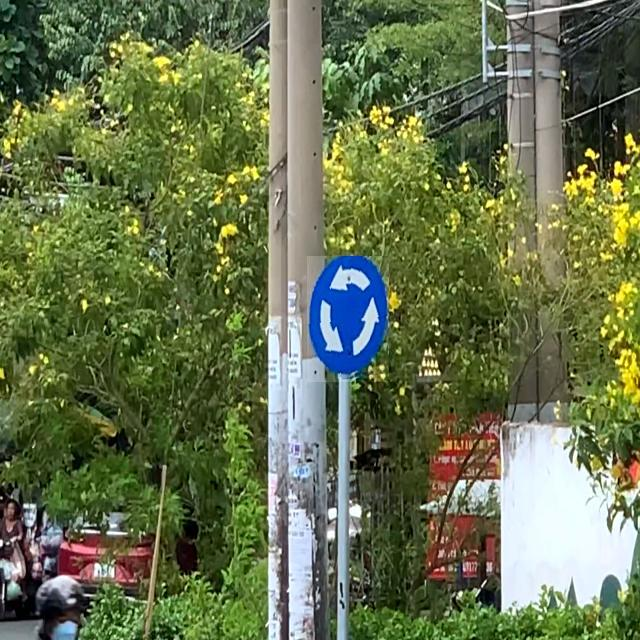R-303: (307, 256, 389, 382)
